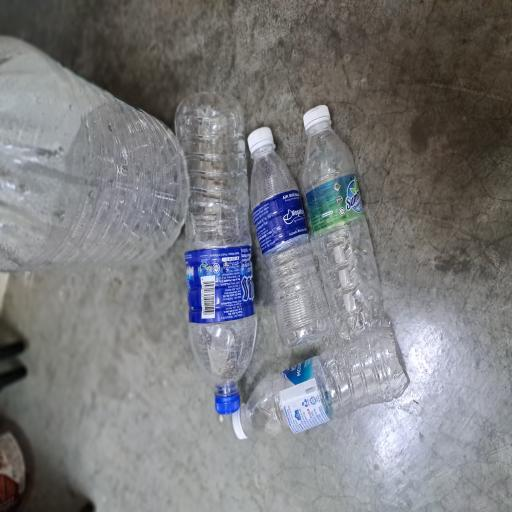plastic bottle: (176, 0, 358, 260), (95, 243, 315, 332), (52, 330, 141, 512), (142, 411, 296, 506), (129, 336, 267, 434)
plastic bottle cap: (268, 329, 293, 368), (73, 280, 96, 322), (53, 301, 78, 329), (288, 410, 308, 444)
